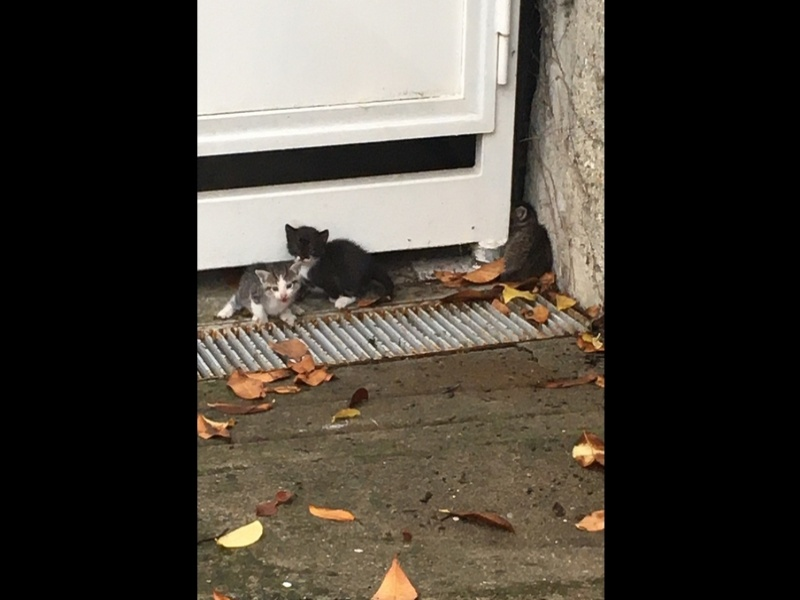cat: (469, 199, 575, 301), (284, 221, 394, 312), (218, 261, 305, 333)
